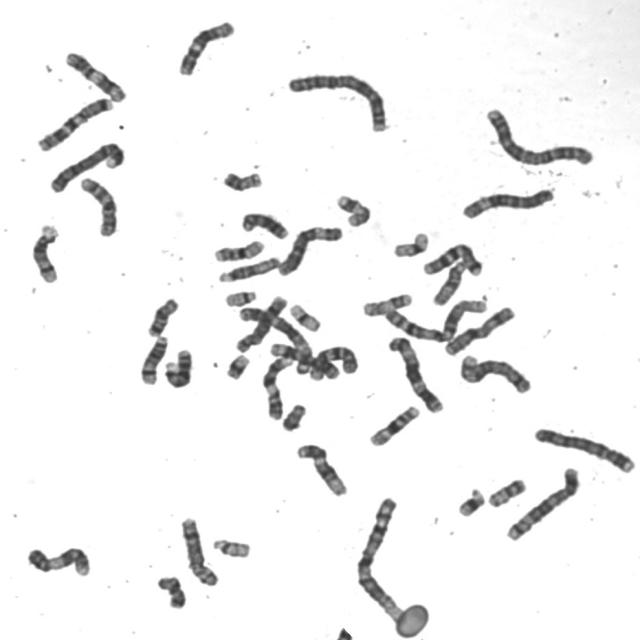A1: (351, 492, 410, 626), (380, 294, 490, 343)
A2: (480, 102, 598, 168), (282, 67, 391, 134)
A3: (233, 302, 316, 376), (383, 332, 445, 414)
B4: (529, 422, 638, 474), (45, 138, 126, 195)
B5: (501, 462, 582, 543), (456, 350, 533, 395)
C10: (75, 172, 120, 238), (305, 341, 360, 382)
C11: (59, 46, 129, 104), (266, 339, 342, 381)
C12: (173, 15, 238, 77), (292, 439, 349, 498)
C6: (273, 220, 345, 278), (457, 184, 557, 221)
C7: (31, 93, 116, 153), (418, 239, 484, 278)
C8: (231, 291, 289, 355), (175, 513, 221, 588)
C9: (21, 542, 93, 578), (259, 353, 295, 421)
D13: (237, 207, 290, 241), (162, 348, 196, 390)
D14: (27, 221, 62, 285), (136, 331, 170, 386)
D15: (214, 252, 282, 284), (428, 256, 469, 307)
E16: (364, 401, 422, 448), (209, 234, 267, 264)
E17: (359, 288, 415, 318), (332, 190, 373, 228)
E18: (142, 293, 181, 339), (151, 571, 188, 610)
F19: (388, 228, 431, 259), (284, 298, 322, 332)
F20: (483, 474, 529, 509), (218, 166, 265, 193)
G21: (452, 484, 487, 518), (221, 350, 251, 381)
G22: (208, 534, 252, 560), (220, 285, 258, 308)
X: (440, 302, 518, 357)
Y: (277, 399, 308, 433)
